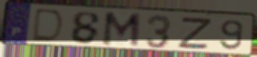3: (145, 13, 173, 50)
8: (70, 11, 102, 46)
9: (219, 19, 245, 51)
D: (29, 8, 66, 45)
M: (100, 11, 143, 49)
Z: (176, 17, 215, 51)
